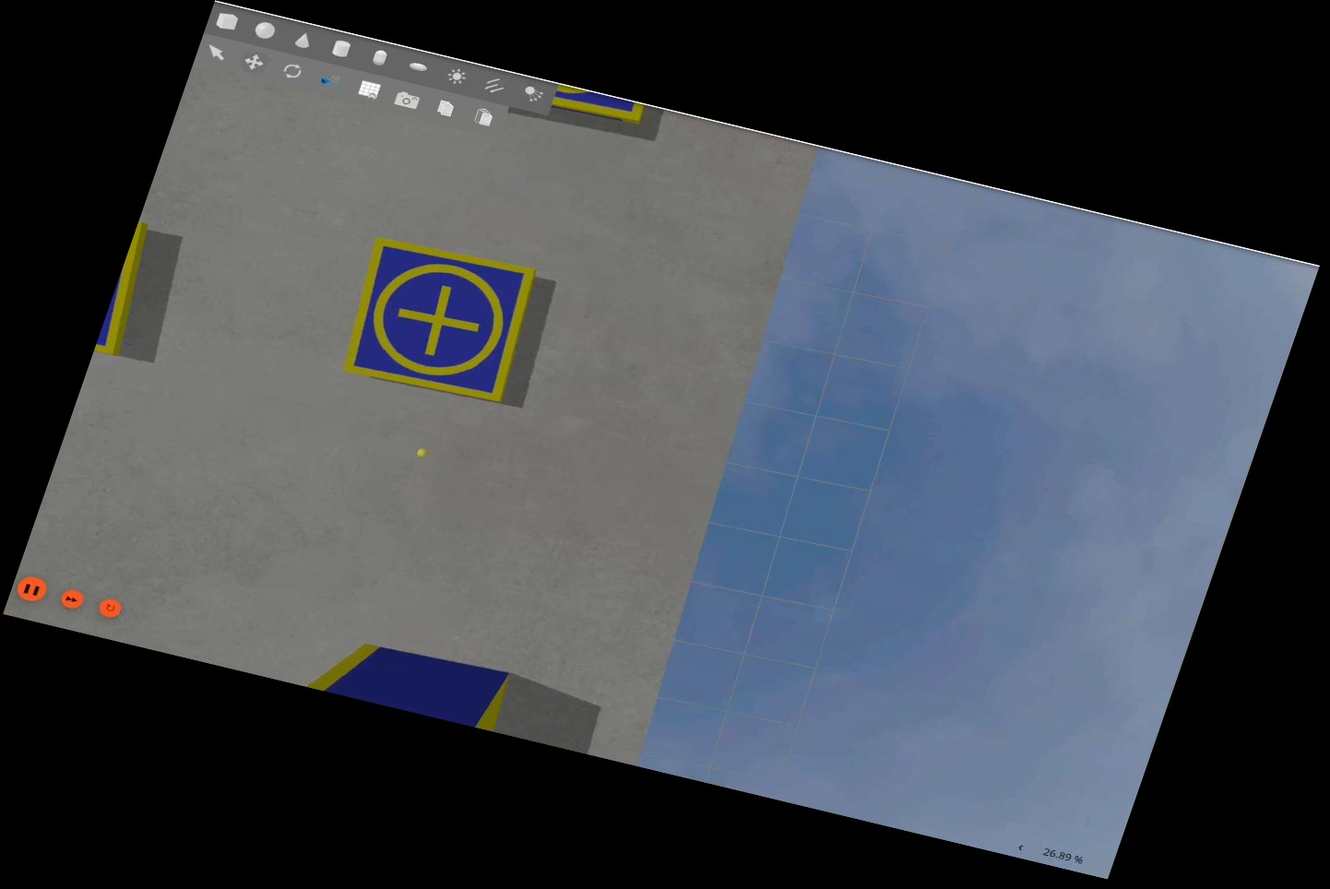small_base: (328, 229, 551, 412)
